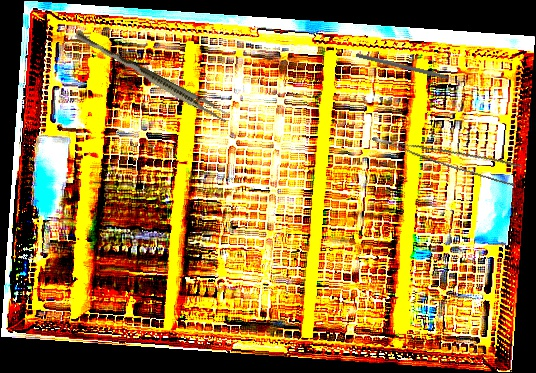Chopper: (354, 52, 464, 90)
Tissue Forceps: (71, 29, 232, 124), (371, 112, 523, 194)
